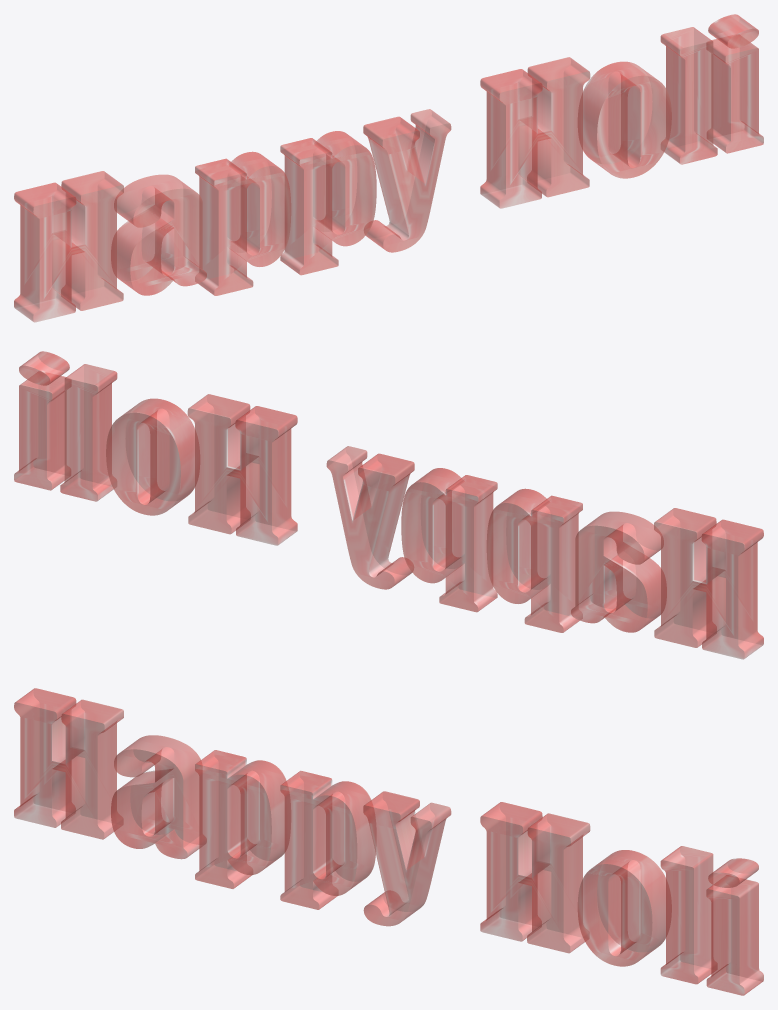
The model's file is holyholi.glb.
3 renders of one model, top to bottom at view 1: azimuth 30°, elevation 25°; view 2: azimuth 150°, elevation 25°; view 3: azimuth 330°, elevation 25°, orthographic.
Visible parts, largest first — view 1: Text; view 2: Text; view 3: Text.
Boxes of the visible parts, <box> form: Text: <box>14,14,763,322</box>; Text: <box>14,351,763,659</box>; Text: <box>14,688,763,995</box>.
Size of the model in its own units: 4.35 by 0.7781 by 0.2.
1 material, 1 textured.
